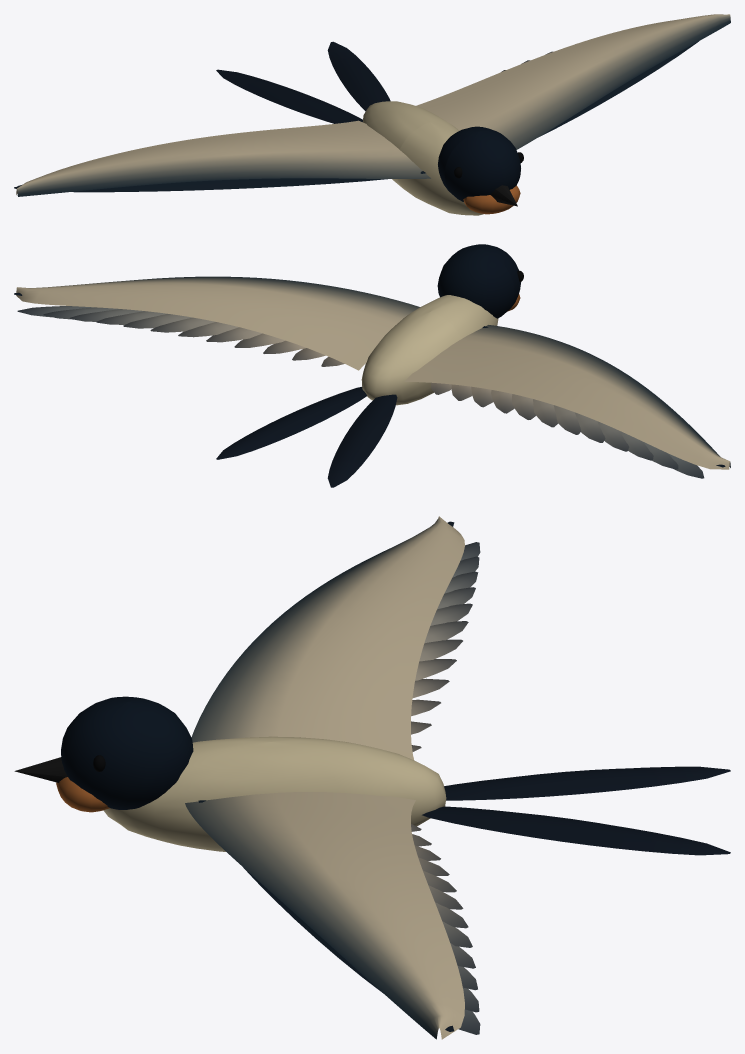
File: SkyCity_Swallow.fbx
3 views of the same model, one above another, from view 1: azimuth 30°, elevation 25°; view 2: azimuth 150°, elevation 25°; view 3: azimuth 270°, elevation 25° (orthographic). The views are drawn at different scales.
Visible parts, largest first — view 1: Swallow Right Wing, Swallow Left Wing, Swallow Body; view 2: Swallow Left Wing, Swallow Right Wing, Swallow Body; view 3: Swallow Body, Swallow Right Wing, Swallow Left Wing.
Part boxes in pixels (bbox=[...]): Swallow Right Wing: bbox=[14, 120, 430, 196]; Swallow Left Wing: bbox=[416, 14, 730, 149]; Swallow Body: bbox=[216, 41, 523, 215]; Swallow Left Wing: bbox=[14, 276, 419, 370]; Swallow Right Wing: bbox=[404, 325, 730, 478]; Swallow Body: bbox=[216, 244, 523, 487]; Swallow Body: bbox=[14, 696, 730, 855]; Swallow Right Wing: bbox=[191, 516, 480, 759]; Swallow Left Wing: bbox=[185, 792, 480, 1039].
Size of the model in its own units: 235 by 31.57 by 139.
